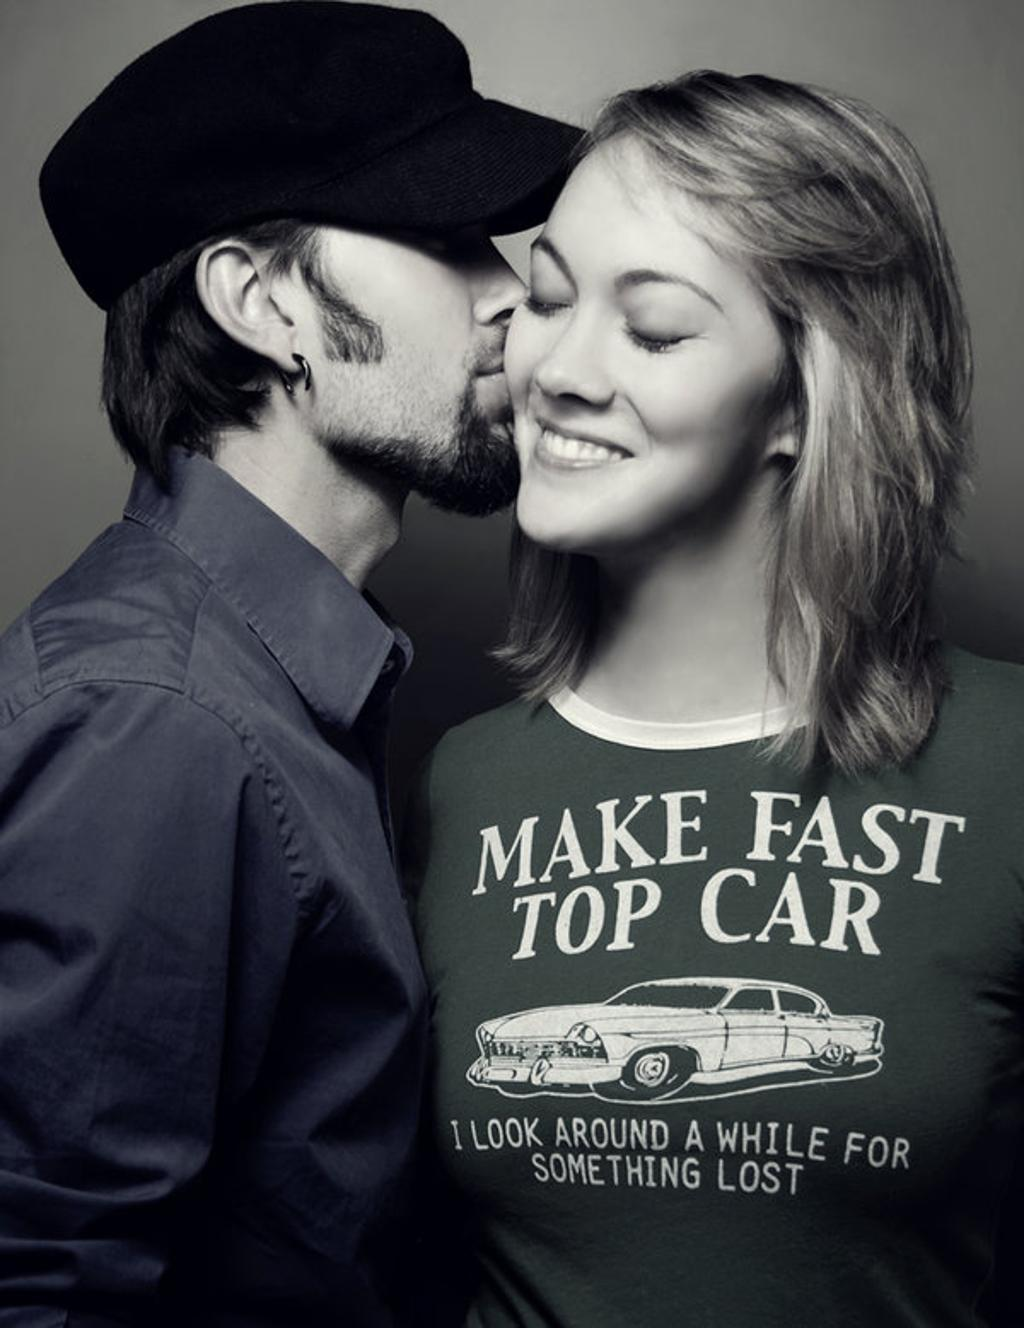face: (506, 156, 778, 547), (272, 148, 529, 490)
